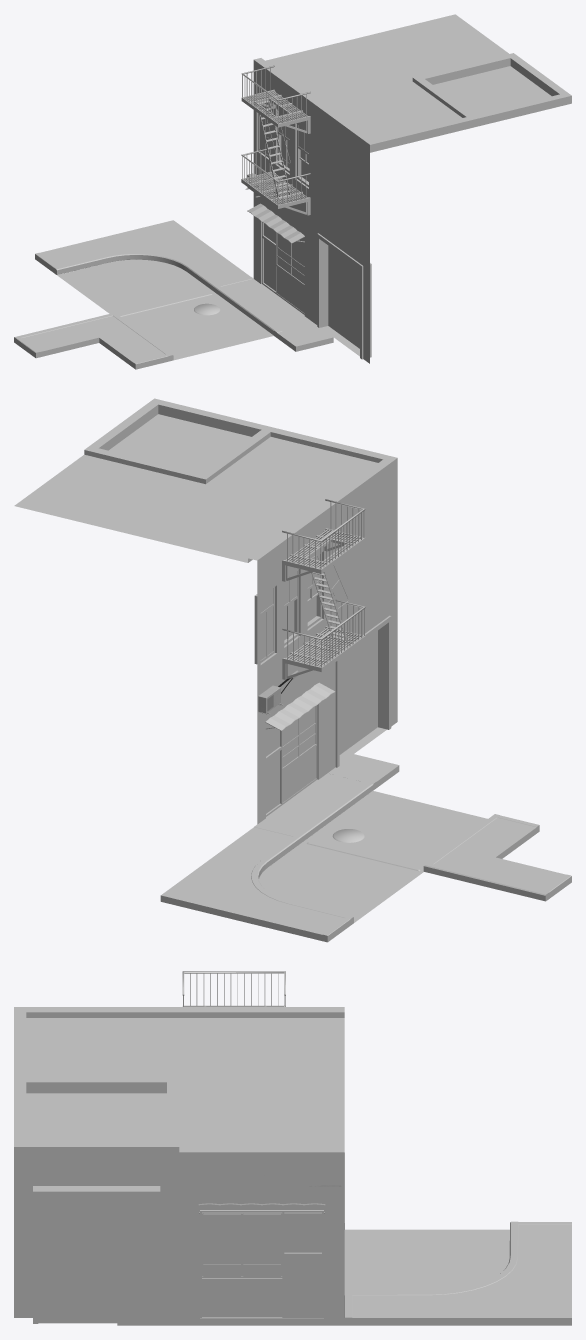
Rendered from Modular_street.fbx.
3 renders of one model, top to bottom at view 1: azimuth 30°, elevation 25°; view 2: azimuth 150°, elevation 25°; view 3: azimuth 270°, elevation 25°, orthographic. The views are drawn at different scales.
Visible parts, largest first — view 1: Module_roof_side, Module_roof_angle, Module_sidewalk_angle_1, Module_wall, Module_roof_front_side, Module_roof, Module_road_angle, Module_door, Module_garage_door, Module_sidewalk_angle_3, Crosswalk, Module_wall_window (+9 smaller); view 2: Module_sidewalk_angle_1, Module_roof_side, Module_roof_angle, Module_roof_front_side, Module_roof, Module_wall, Module_road_angle, Module_door, Module_garage_door, Module_sidewalk_angle_3, Crosswalk, Module_wall_window (+9 smaller); view 3: Module_door, Module_garage_door, Module_roof_side, Module_sidewalk_angle_1, Module_roof_front_side, Module_roof, Module_roof_angle, Module_road_angle, Module_garage_door_jamb, Module_wall_window, Module_wall, Module_balcony_steps (+1 smaller).
Boxes of the visible parts, x1=… form: Module_roof_side: x1=412, y1=53, x2=571, y2=127; Module_roof_angle: x1=312, y1=81, x2=470, y2=152; Module_sidewalk_angle_1: x1=35, y1=220, x2=253, y2=292; Module_wall: x1=312, y1=110, x2=369, y2=257; Module_roof_front_side: x1=253, y1=39, x2=412, y2=109; Module_roof: x1=355, y1=14, x2=508, y2=80; Module_road_angle: x1=57, y1=259, x2=215, y2=315; Module_door: x1=253, y1=183, x2=311, y2=321; Module_garage_door: x1=312, y1=216, x2=369, y2=363; Module_sidewalk_angle_3: x1=14, y1=312, x2=173, y2=369; Crosswalk: x1=135, y1=304, x2=273, y2=360; Module_wall_window: x1=253, y1=68, x2=311, y2=215; Module_sidewalk_angle_1: x1=160, y1=824, x2=353, y2=942; Module_roof_side: x1=84, y1=398, x2=275, y2=484; Module_roof_angle: x1=206, y1=428, x2=397, y2=518; Module_roof_front_side: x1=136, y1=484, x2=327, y2=569; Module_roof: x1=14, y1=454, x2=205, y2=535; Module_wall: x1=327, y1=467, x2=397, y2=641; Module_road_angle: x1=259, y1=842, x2=423, y2=922; Module_door: x1=257, y1=650, x2=327, y2=824; Module_garage_door: x1=327, y1=595, x2=397, y2=772; Module_sidewalk_angle_3: x1=423, y1=814, x2=571, y2=901; Crosswalk: x1=320, y1=791, x2=487, y2=857; Module_wall_window: x1=254, y1=519, x2=327, y2=696; Module_door: x1=179, y1=1168, x2=344, y2=1318; Module_garage_door: x1=14, y1=1168, x2=179, y2=1323; Module_roof_side: x1=14, y1=1077, x2=179, y2=1157; Module_sidewalk_angle_1: x1=344, y1=1221, x2=571, y2=1325; Module_roof_front_side: x1=179, y1=1007, x2=344, y2=1082; Module_roof: x1=179, y1=1082, x2=344, y2=1152; Module_roof_angle: x1=14, y1=1007, x2=179, y2=1076; Module_road_angle: x1=344, y1=1229, x2=509, y2=1291; Module_garage_door_jamb: x1=33, y1=1186, x2=160, y2=1323; Module_wall_window: x1=179, y1=1152, x2=344, y2=1168; Module_wall: x1=14, y1=1158, x2=179, y2=1168; Module_balcony_steps: x1=182, y1=971, x2=285, y2=1006.
Size of the model in its own units: 1749 by 885 by 1350.
